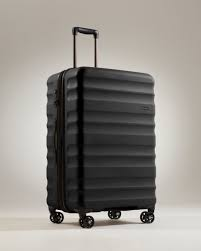suitcase: (44, 25, 159, 230)
